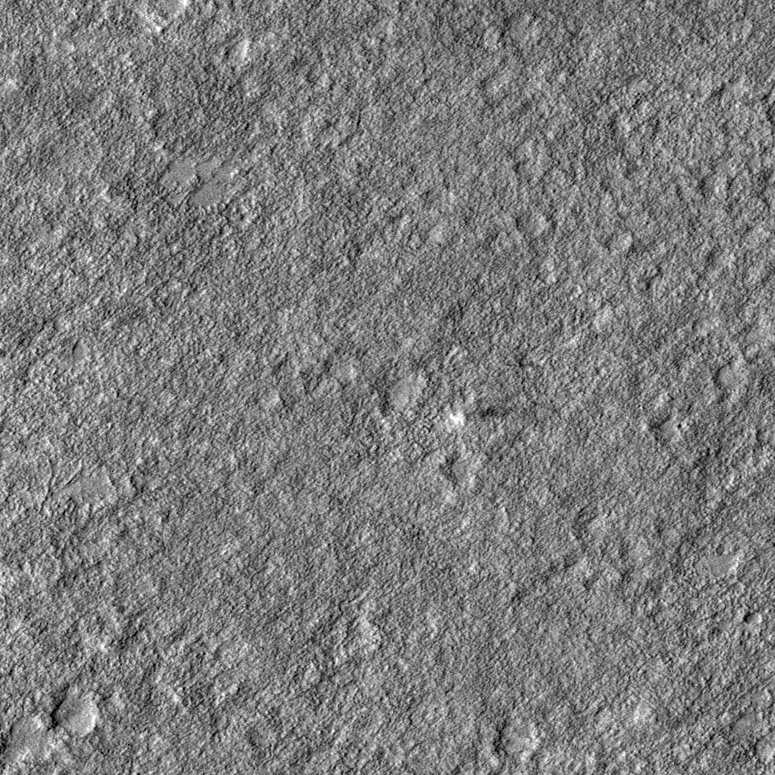dust_devil: (448, 403, 511, 427)
